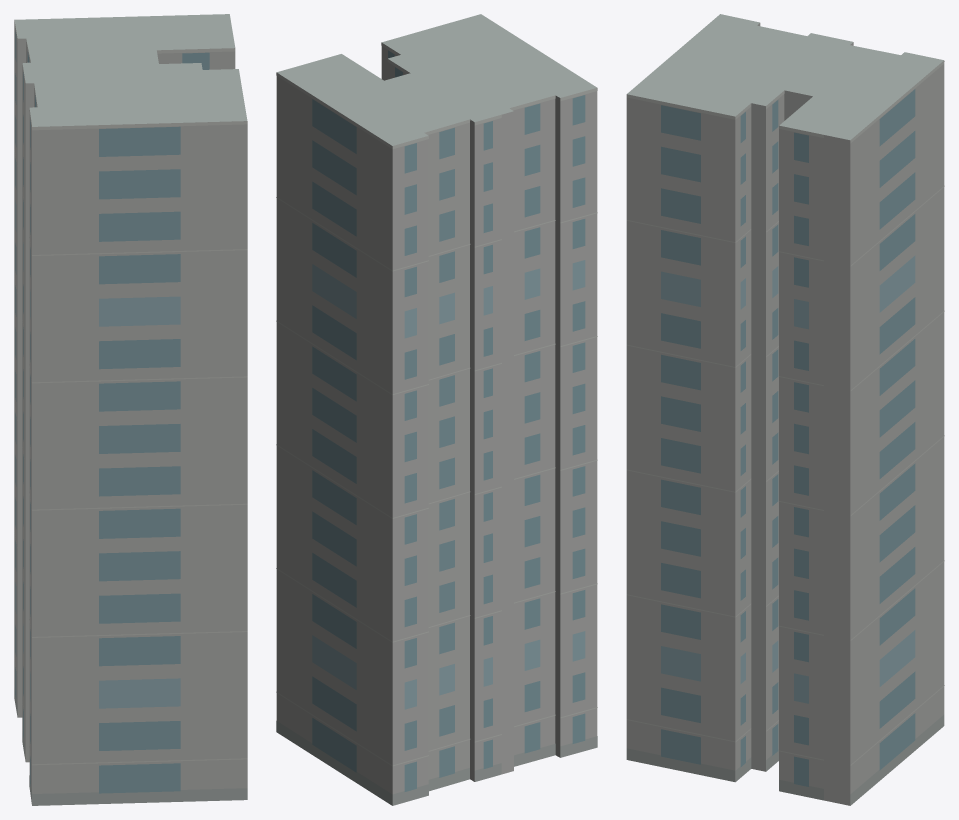
File: survey-upis-32983869.glb
3 views of the same model, side by side, from view 1: azimuth 30°, elevation 25°; view 2: azimuth 150°, elevation 25°; view 3: azimuth 270°, elevation 25° (orthographic). The views are drawn at different scales.
Visible parts, largest first — view 1: survey-upis-32983869.tmp; view 2: survey-upis-32983869.tmp; view 3: survey-upis-32983869.tmp.
Boxes of the visible parts, x1=… form: survey-upis-32983869.tmp: x1=14, y1=14, x2=247, y2=805; survey-upis-32983869.tmp: x1=276, y1=14, x2=597, y2=805; survey-upis-32983869.tmp: x1=626, y1=14, x2=944, y2=805.
Size of the model in its own units: 20.05 by 49.25 by 21.33.
